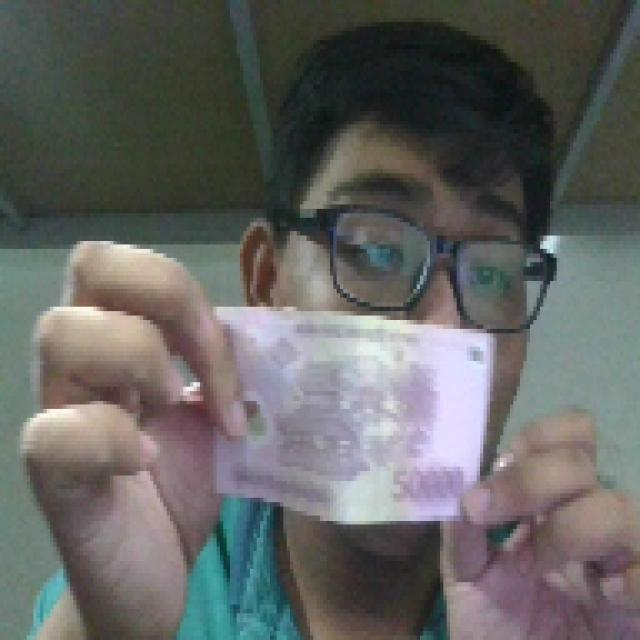50 000 VND: (197, 298, 500, 529)
